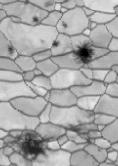good_void: (12, 126, 48, 166), (70, 41, 97, 66), (62, 120, 91, 143), (83, 105, 104, 120), (51, 39, 61, 49), (38, 37, 47, 47), (7, 44, 14, 56), (32, 16, 42, 24), (61, 22, 69, 30)
